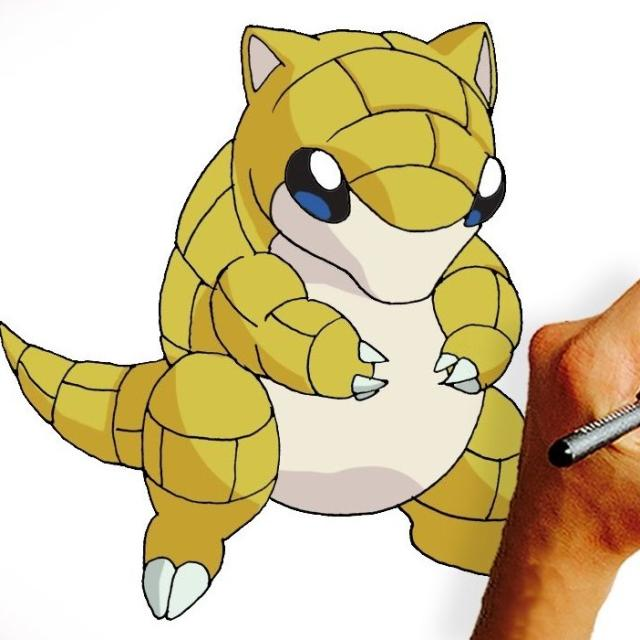Sandshrew: (138, 18, 516, 574)
